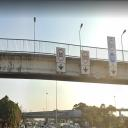speed_limit_100: (81, 50, 90, 66)
speed_limit_120: (108, 38, 116, 52)
speed_limit_80: (57, 48, 65, 63)
